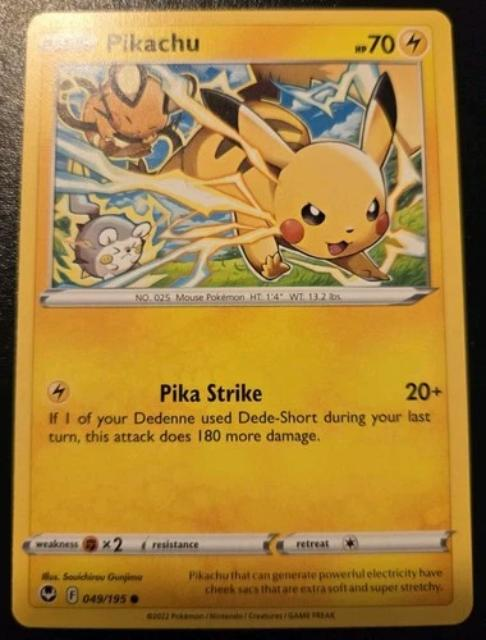Card: (8, 5, 476, 634)
Name: (99, 27, 202, 58)
